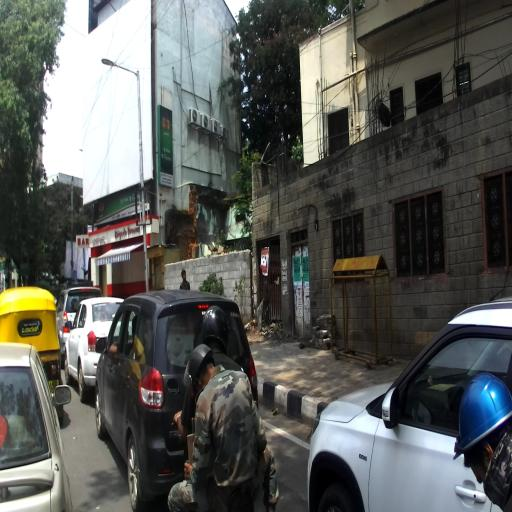street_light_0: (100, 57, 141, 81)
